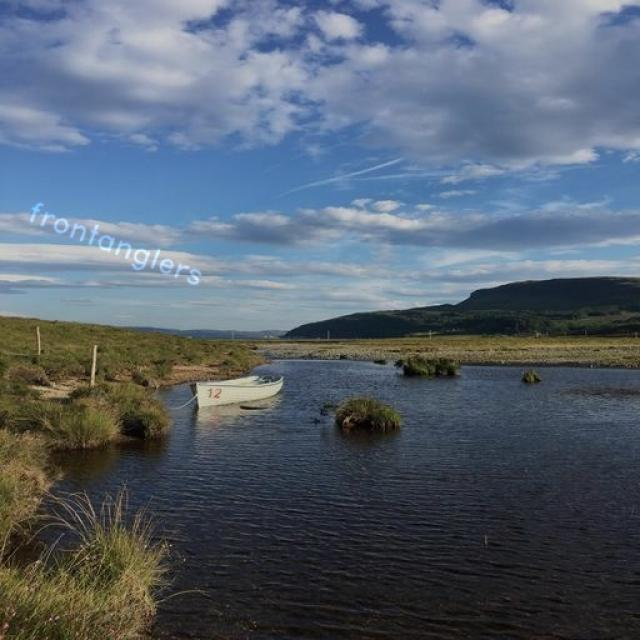watermark: (17, 196, 220, 291)
